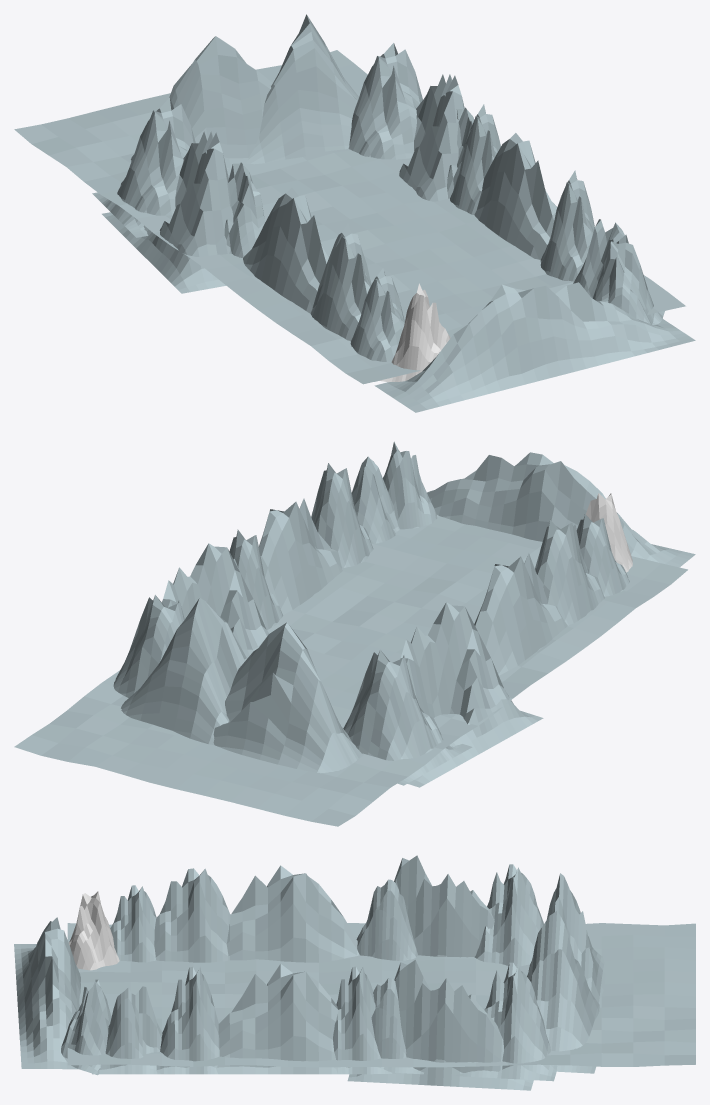
File: mazeTerrian.fbx
3 views of the same model, one above another, from view 1: azimuth 30°, elevation 25°; view 2: azimuth 150°, elevation 25°; view 3: azimuth 270°, elevation 25° (orthographic). The views are drawn at different scales.
Visible parts, largest first — view 1: Plane, Landscape_16, Landscape_8, Landscape_5, Landscape_7, Landscape_12, Landscape_3, Landscape_6, Landscape_15, Landscape_14, Landscape_2, Landscape_11_2 (+7 smaller); view 2: Plane, Landscape_7, Landscape_16, Landscape_5, Landscape_8, Landscape_6, Landscape_3, Landscape_12, Landscape_14, Landscape_2, Landscape_11_2, Landscape_15 (+5 smaller); view 3: Plane, Landscape_14, Landscape_12, Landscape_3, Landscape_16, Landscape_8, Landscape_5, Landscape_2, Landscape_15, Landscape_11_2, Landscape_6, Landscape_11 (+7 smaller).
Boxes of the visible parts, x1,y1,x2,y2 form: Plane: (14, 50, 685, 384); Landscape_16: (374, 282, 695, 412); Landscape_8: (246, 14, 358, 164); Landscape_5: (102, 131, 233, 293); Landscape_7: (131, 36, 271, 168); Landscape_12: (474, 133, 557, 259); Landscape_3: (243, 187, 328, 313); Landscape_6: (92, 97, 195, 237); Landscape_15: (348, 43, 422, 159); Landscape_14: (399, 74, 464, 201); Landscape_2: (310, 223, 371, 340); Landscape_11_2: (540, 170, 594, 281); Plane: (14, 515, 687, 826); Landscape_7: (213, 622, 361, 773); Landscape_16: (427, 452, 695, 567); Landscape_5: (400, 602, 543, 787); Landscape_8: (121, 598, 246, 745); Landscape_6: (343, 649, 472, 785); Landscape_3: (474, 553, 567, 675); Landscape_12: (259, 498, 342, 614); Landscape_14: (162, 543, 268, 658); Landscape_2: (535, 520, 604, 625); Landscape_11_2: (311, 463, 373, 568); Landscape_15: (113, 595, 184, 697); Plane: (67, 923, 695, 1067); Landscape_14: (347, 960, 533, 1090); Landscape_12: (216, 963, 343, 1074); Landscape_3: (226, 865, 359, 962); Landscape_16: (14, 917, 80, 1069); Landscape_8: (527, 911, 599, 1073); Landscape_5: (394, 855, 494, 957); Landscape_2: (154, 868, 230, 962); Landscape_15: (452, 962, 556, 1081); Landscape_11_2: (156, 966, 219, 1074); Landscape_6: (474, 864, 543, 966); Landscape_11: (333, 966, 395, 1074).
Bounding box in the file's own units: 3070 × 1193 × 5741.
